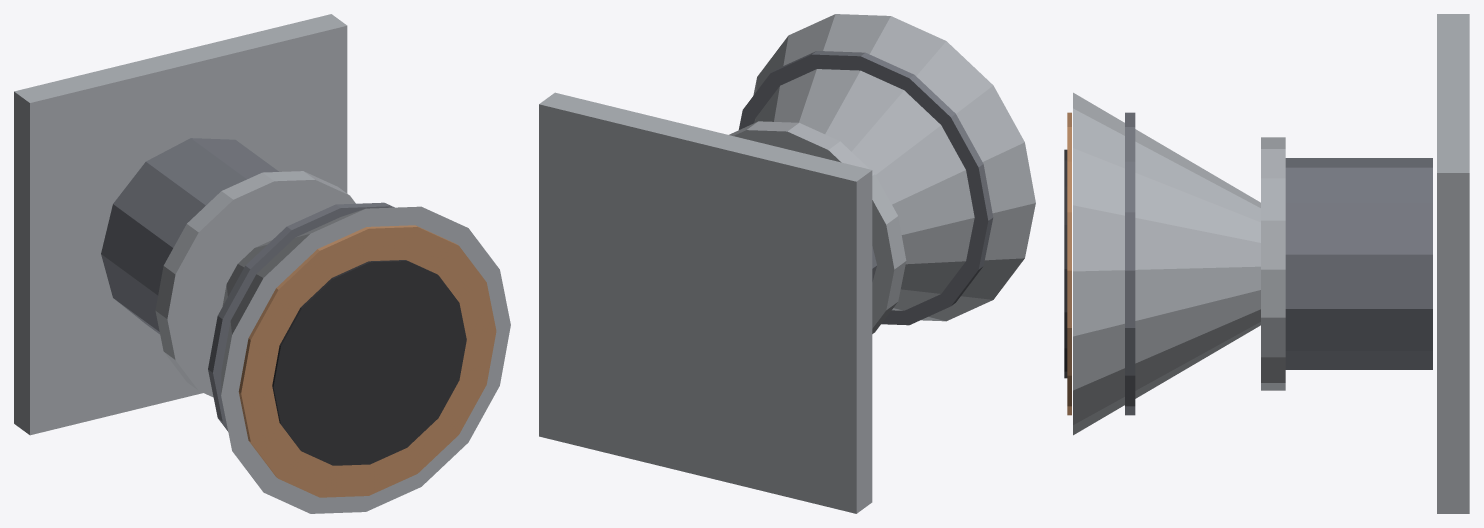
The model's file is shell_bell.glb.
3 renders of one model, left to right at view 1: azimuth 30°, elevation 25°; view 2: azimuth 150°, elevation 25°; view 3: azimuth 270°, elevation 25°, orthographic. The views are drawn at different scales.
Size of the model in its own units: 0.92 by 0.92 by 0.991.
